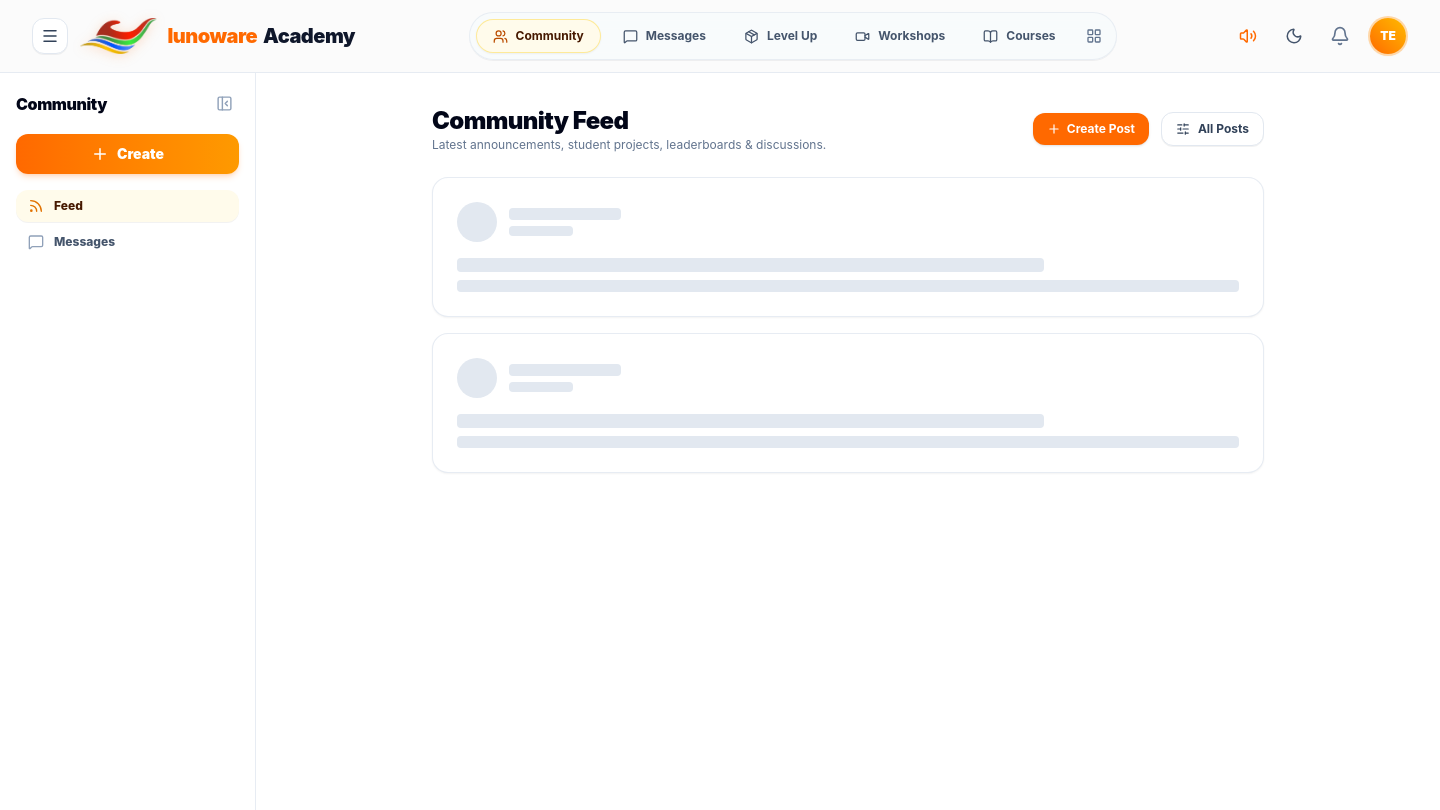
it: CommunityHub & Components › supports selecting Video, Photo, and Project attachment options in CreatePostModal
Click the button "Create" at (128, 154), box [16, 134, 239, 174]
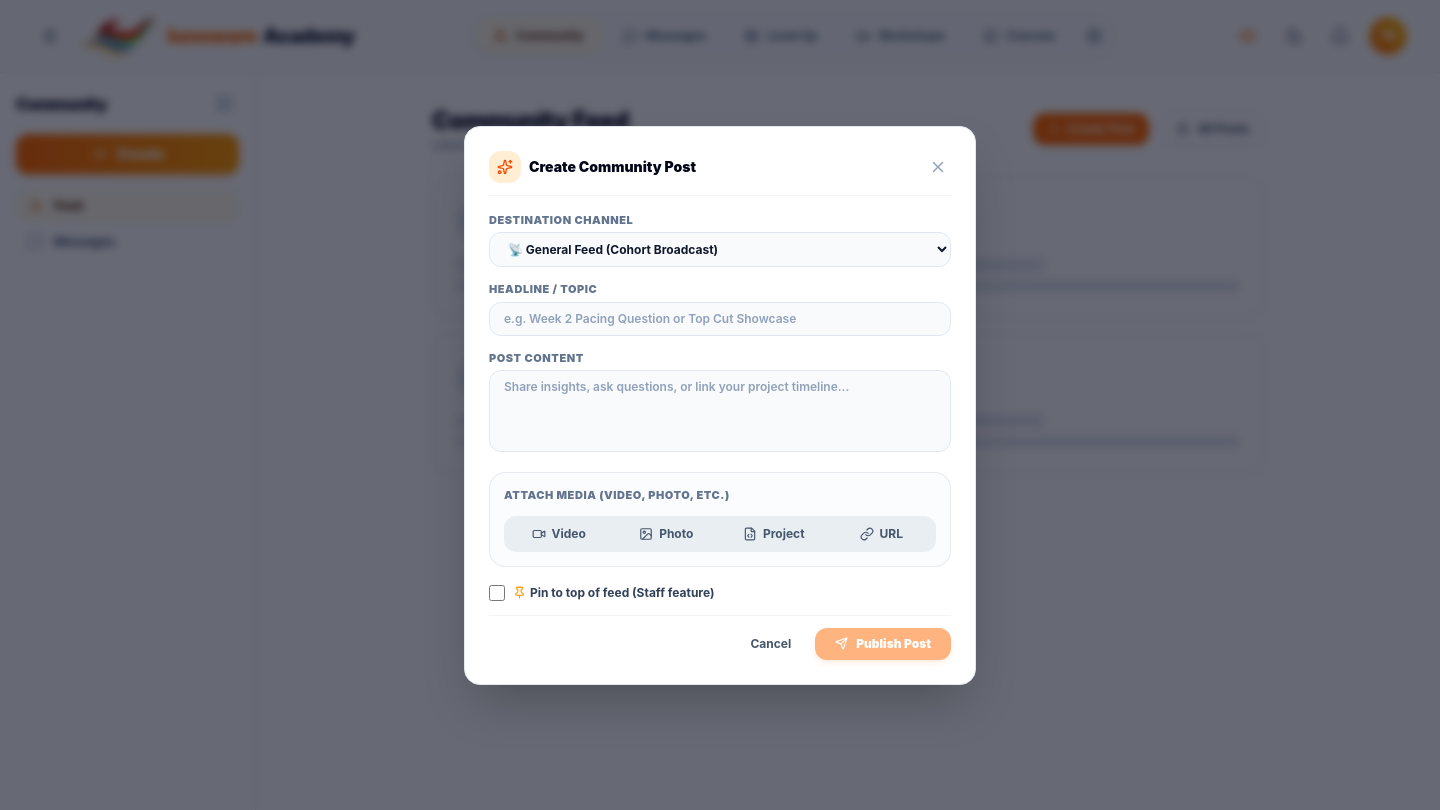
Now the text "Attach Media (Video, Photo, Etc.)" is shown, box [504, 487, 730, 504]
// Click Video tab
Click the button "Video" at (559, 534), box [508, 520, 610, 548]
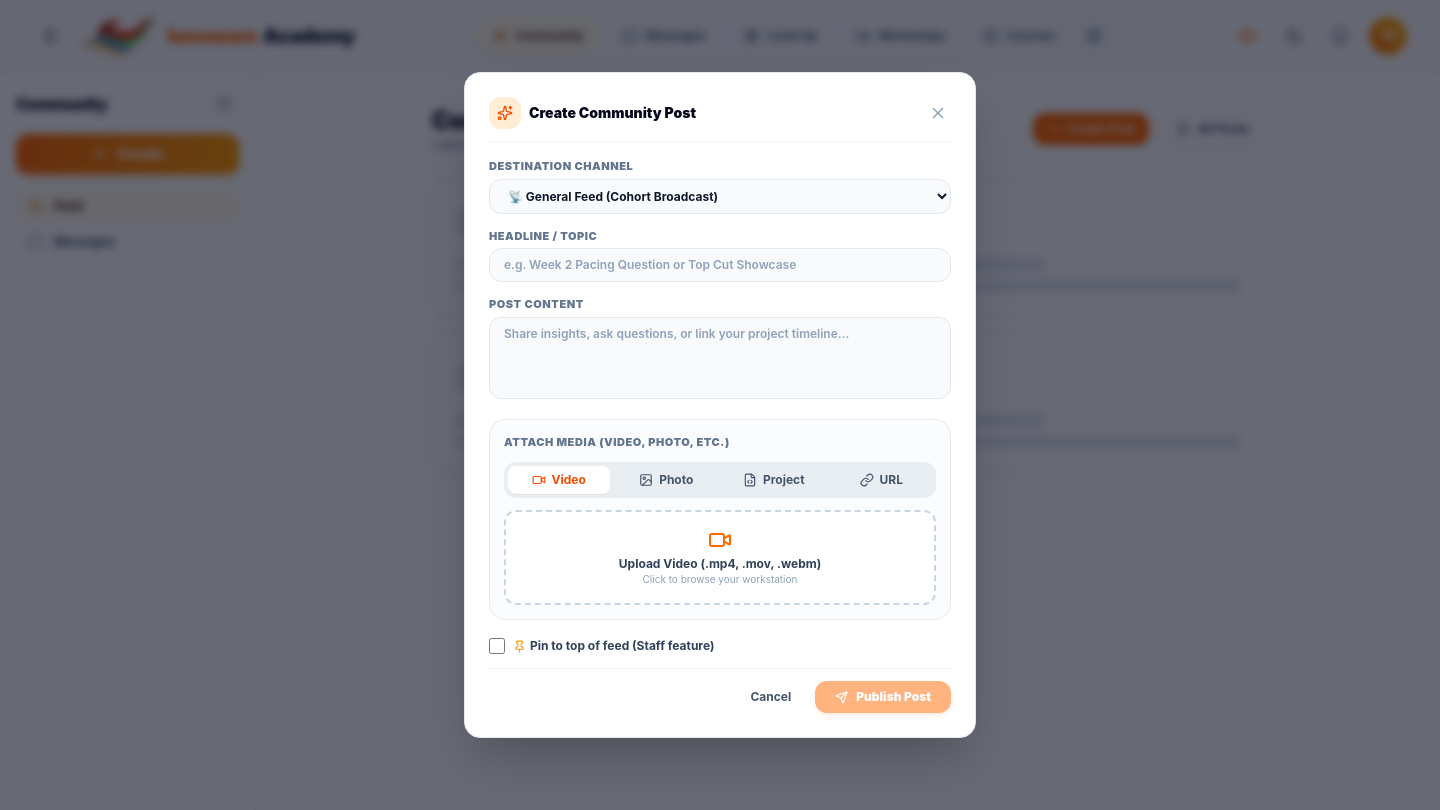
Now the text "Upload Video (.mp4, .mov, .webm)" is shown, box [619, 556, 821, 572]
// Click Photo tab
Click the button "Photo" at (666, 480), box [616, 466, 717, 494]
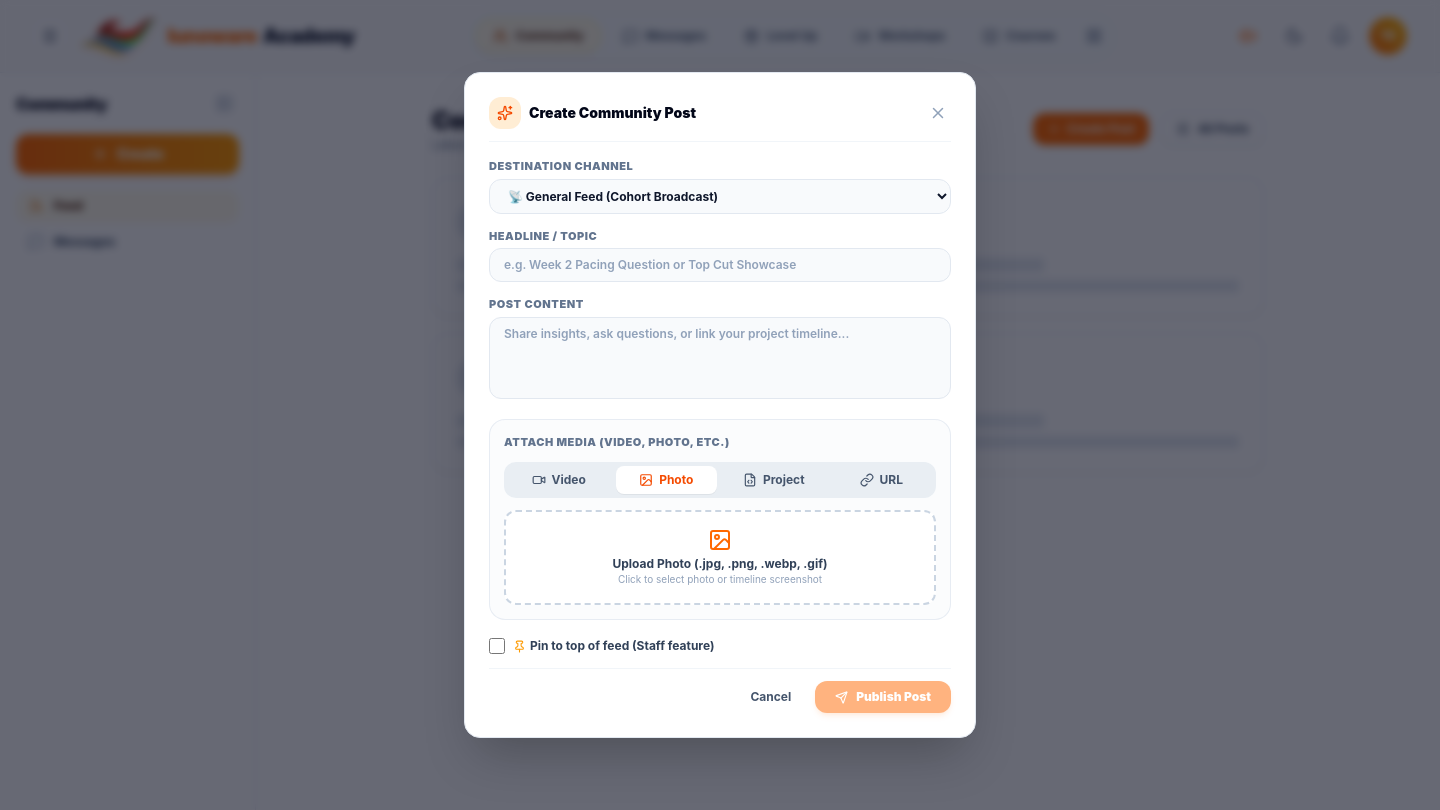
Now the text "Upload Photo (.jpg, .png, .webp, .gif)" is shown, box [612, 556, 828, 572]
// Click Project tab
Click the button "Project" at (774, 480), box [723, 466, 824, 494]
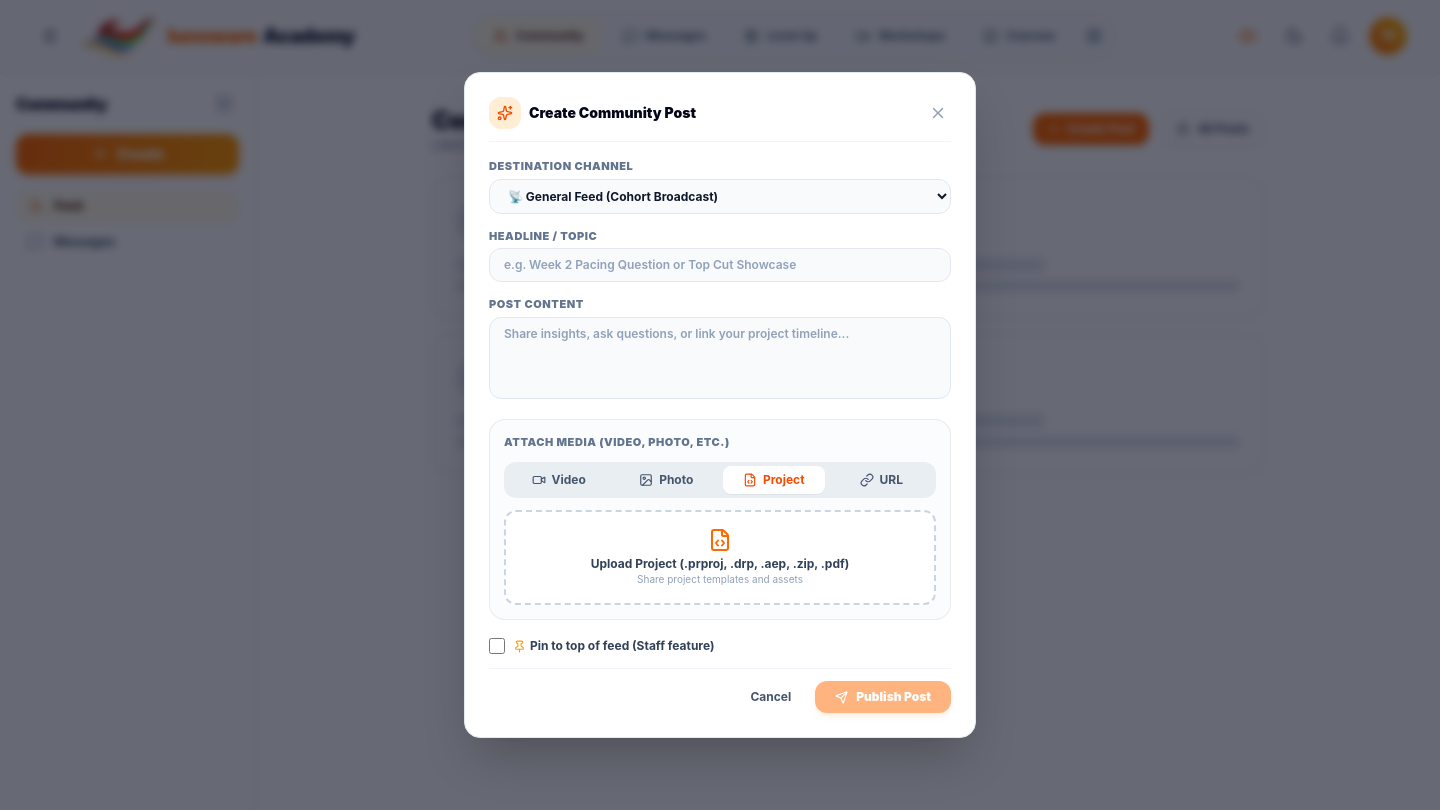
Now the text "Upload Project (.prproj, .drp, .aep, .zip, .pdf)" is shown, box [591, 556, 849, 572]
// Click URL tab
Click the button "URL" at (881, 480), box [830, 466, 932, 494]
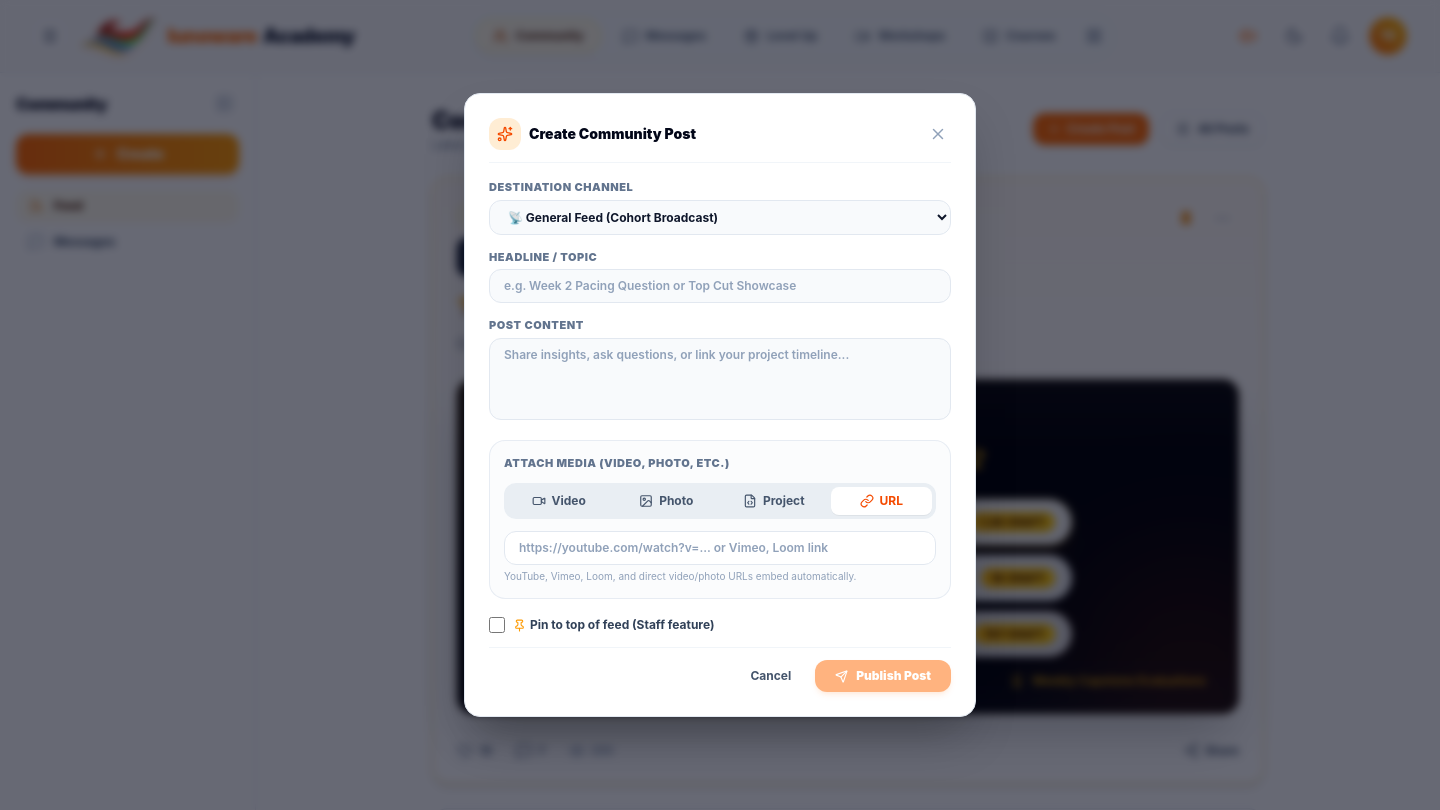
Now the field with placeholder "https://youtube.com/watch?v=... or Vimeo, Loom link" is shown, box [504, 531, 936, 565]
